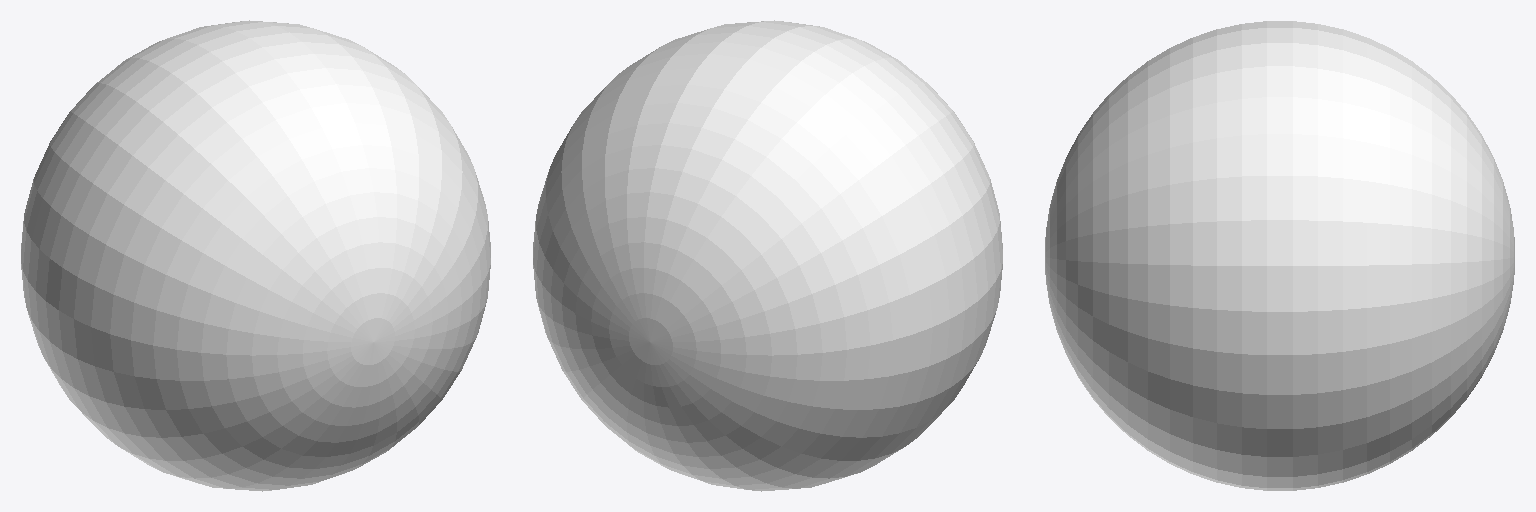
URDF robot description (urdf_robot):
<?xml version="1.0" ?>
<robot name="urdf_robot">
  
  <link name="baseLink">
  	<contact>
      <rolling_friction value="0.0001"/>
      <spinning_friction value="0.0001"/>
      <restitution value="0.95" />
    </contact>

    <inertial>
      <origin rpy="0 0 0" xyz="0 0 0"/>
       <mass value=".170"/>
       <inertia ixx="1" ixy="0" ixz="0" iyy="1" iyz="0" izz="1"/>
    </inertial>
    <visual>
      <origin rpy="0 0 0" xyz="0 0 0"/>
      <geometry>
				<mesh filename="textured_sphere_smooth6.obj" scale="0.028575 0.028575 0.028575"/>      
      </geometry>
      <material name="white">
        <color rgba="1 1 1 1"/>
        <specular rgb="11 1 1"/>
      </material>
    </visual>
    <collision>
      <origin rpy="0 0 0" xyz="0 0 0"/>
      <geometry>
	 <sphere radius="0.028575"/>
      </geometry>
    </collision>
  </link>
</robot>

--- Render facts (derived) ---
3 views of the same robot in one strip: view 1: azimuth 30°, elevation 25°; view 2: azimuth 150°, elevation 25°; view 3: azimuth 270°, elevation 25° (orthographic).
Model urdf_robot with 1 links and 0 joints (none), rooted at baseLink, posed every joint at zero.
Visible links, largest first — view 1: baseLink; view 2: baseLink; view 3: baseLink.
Link boxes in pixels (left/top/right/bottom): baseLink: left=21, top=20, right=490, bottom=491; baseLink: left=533, top=20, right=1002, bottom=491; baseLink: left=1045, top=21, right=1514, bottom=490.
Size in the robot's own frame: 0.0571 by 0.0571 by 0.0571 metres.
1 mesh visuals loaded from 1 distinct referenced files (1 OBJ).